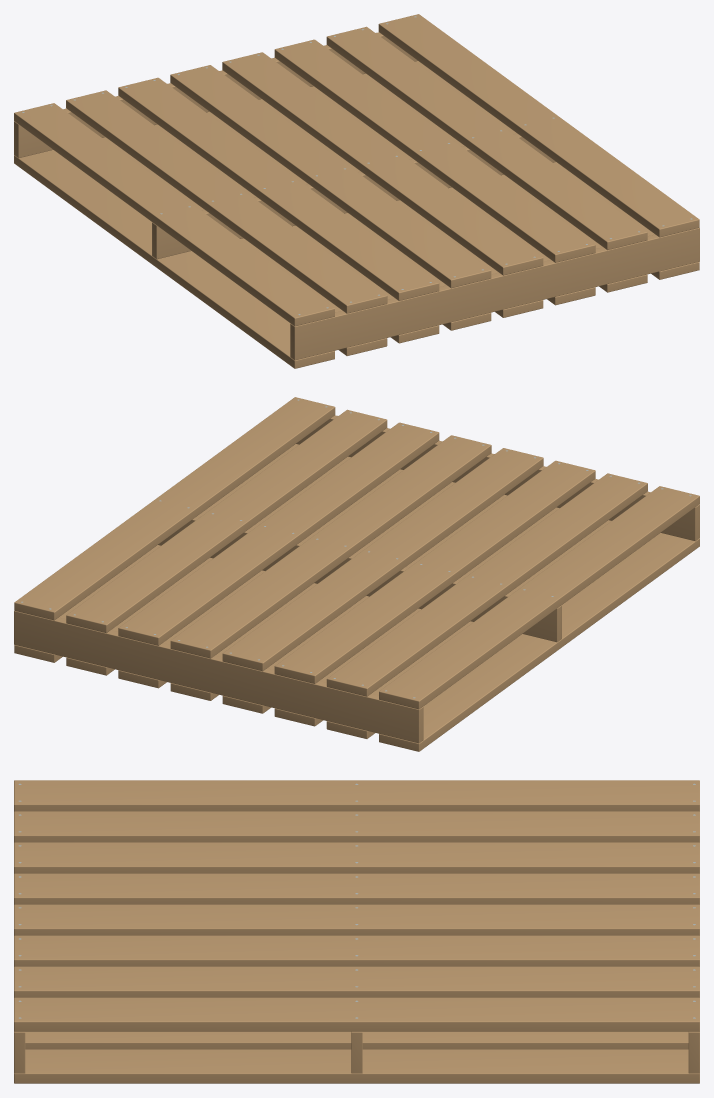
File: pallet_block_a01.glb
3 views of the same model, one above another, from view 1: azimuth 30°, elevation 25°; view 2: azimuth 150°, elevation 25°; view 3: azimuth 270°, elevation 25° (orthographic). The views are drawn at different scales.
Size of the model in its own units: 1 by 0.1202 by 1.2.
